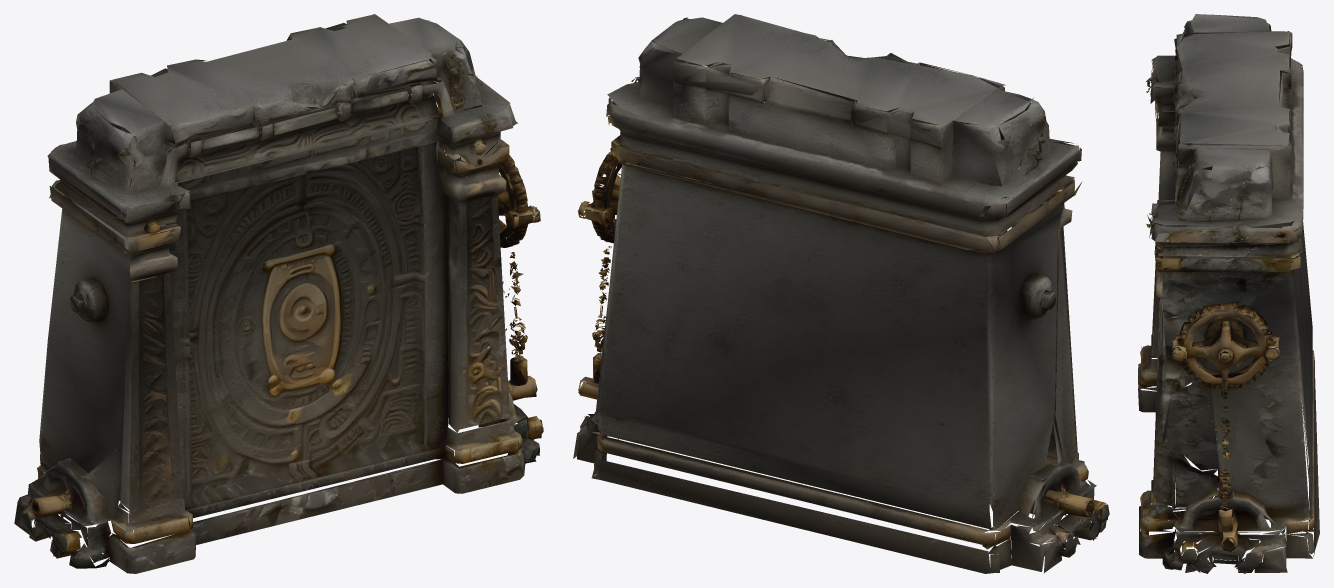
File: ch6_sluice_gate_LOD2.glb
3 views of the same model, side by side, from view 1: azimuth 30°, elevation 25°; view 2: azimuth 150°, elevation 25°; view 3: azimuth 270°, elevation 25° (orthographic). The views are drawn at different scales.
Parts seen in each view (by area): view 1: tripo_node_174d5530-f8be-48f6-bdd4-5b4818296782; view 2: tripo_node_174d5530-f8be-48f6-bdd4-5b4818296782; view 3: tripo_node_174d5530-f8be-48f6-bdd4-5b4818296782.
Part boxes in pixels (x1,y1,x2,y2): tripo_node_174d5530-f8be-48f6-bdd4-5b4818296782: (14,14,543,573); tripo_node_174d5530-f8be-48f6-bdd4-5b4818296782: (573,14,1109,573); tripo_node_174d5530-f8be-48f6-bdd4-5b4818296782: (1138,14,1319,573).
Bounding box in the file's own units: 0.9981 × 0.811 × 0.3475.
Materials: 1 (1 with a texture image).
